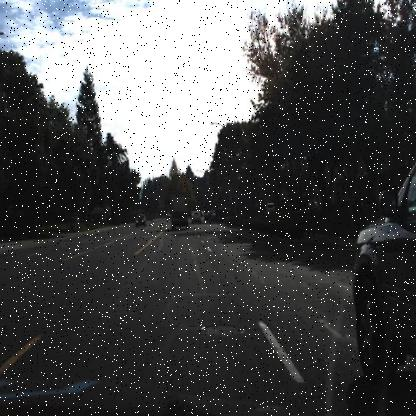car: (354, 160, 415, 403), (170, 189, 192, 234), (190, 207, 202, 226), (263, 198, 275, 212), (136, 212, 146, 228)
truck: (168, 186, 191, 234)
